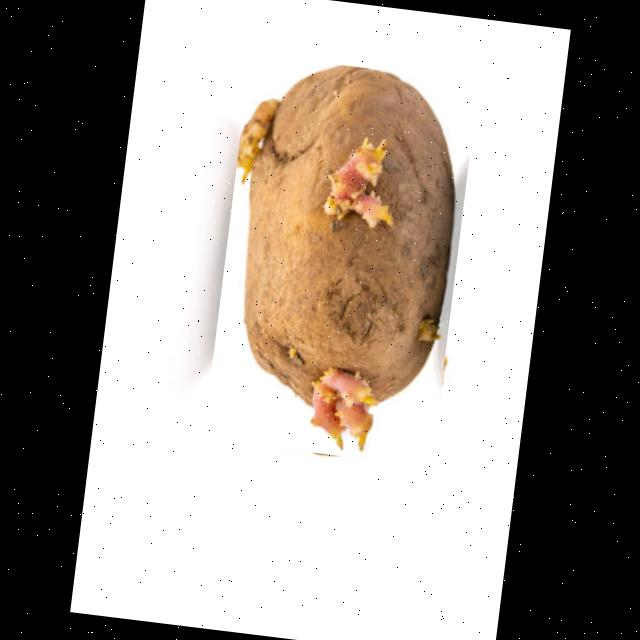Sprouted potato: (202, 52, 478, 466)
